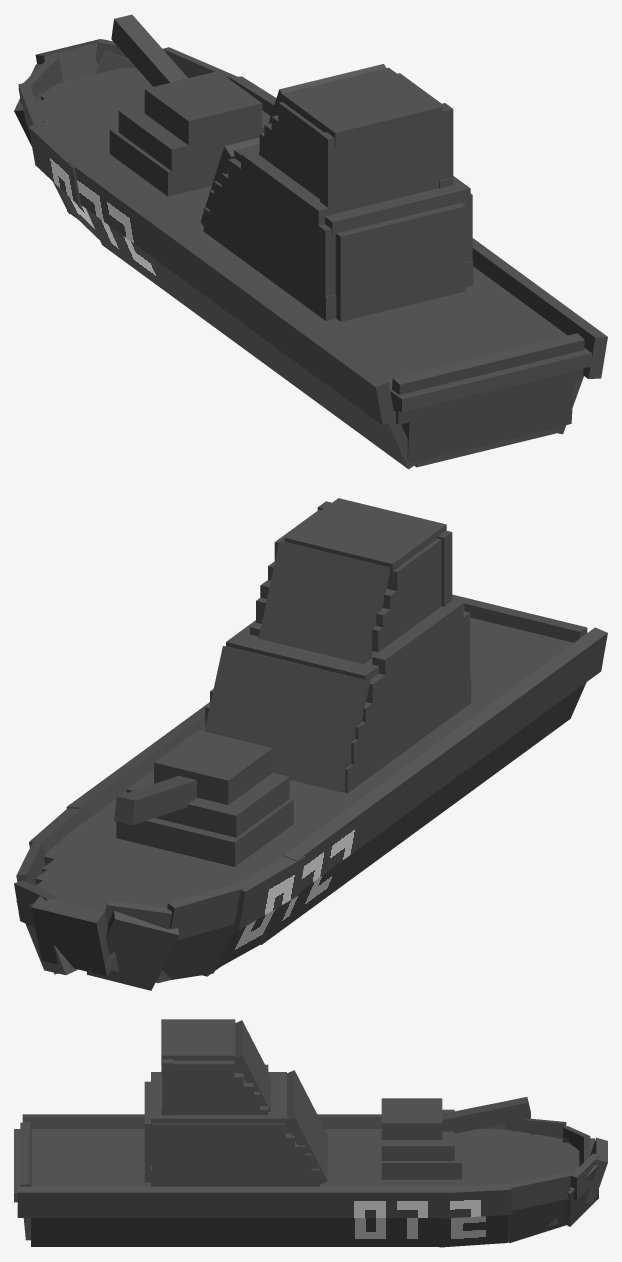
Rendered from battle_ship.gltf.
The picture shows the model from 3 angles, top to bottom: view 1: azimuth 30°, elevation 25°; view 2: azimuth 150°, elevation 25°; view 3: azimuth 270°, elevation 25°; orthographic projection. The views are drawn at different scales.
Visible parts, largest first — view 1: 574a7edc-acfb-e52b-d5ba-4c62aa0ed6e0, d747655d-21ff-97ad-ced1-867fbfcbcaac, d9909ba2-2220-5320-0587-8492221cc0b0, 764bfbb8-c7a1-44c2-808c-2f12d1057706, cd5e8470-a813-db98-c8eb-9bcdb8833844, a60889d1-ae71-2abe-be8e-14705f432808, 125cb045-9013-a886-90f1-e61241ccfe7a, 57532ed3-e67f-888f-b20d-7fd0287a990d, 3e800dbd-54c7-58d9-94f7-5210bf180558, 7b0f2438-c3d2-1eb7-5e60-a1bc8732a3ea, 02b7a2be-bfd1-5671-0eeb-4303a37a5ecd, 2942a726-c24d-d8c7-f381-debaa4e4d9b8 (+25 smaller); view 2: 574a7edc-acfb-e52b-d5ba-4c62aa0ed6e0, 77a540ac-184b-ad83-996b-59789e271a50, d747655d-21ff-97ad-ced1-867fbfcbcaac, fc0ec059-f388-7034-113f-d26500ad4ce9, cd5e8470-a813-db98-c8eb-9bcdb8833844, 125cb045-9013-a886-90f1-e61241ccfe7a, 57532ed3-e67f-888f-b20d-7fd0287a990d, 8905e3d0-7f4a-b9aa-f247-8a02727d9348, f6f09189-5b07-eb78-a67a-3fc8edfaabb6, 02b7a2be-bfd1-5671-0eeb-4303a37a5ecd, 8d9f268d-63dd-d09e-1849-835a69b38e6d, 54571c1e-b40f-808b-20aa-ccb1180dddf0 (+25 smaller); view 3: 7b0f2438-c3d2-1eb7-5e60-a1bc8732a3ea, 574a7edc-acfb-e52b-d5ba-4c62aa0ed6e0, bc360248-b9ef-b0c0-4257-d19f7198daa3, 125cb045-9013-a886-90f1-e61241ccfe7a, c19e883f-5d59-1123-f332-8dbebba9fa17, d747655d-21ff-97ad-ced1-867fbfcbcaac, 57532ed3-e67f-888f-b20d-7fd0287a990d, 6f654d17-7926-ae67-3081-45d37608c4da, 77a540ac-184b-ad83-996b-59789e271a50, b36ee417-e359-5583-4278-31b8f2a9d461, d1878211-4c6f-f7c3-8478-5f4488162acc, 11c33a91-05c5-4385-1ed4-3aebfd642e91 (+26 smaller).
Boxes of the visible parts, x1=… form: 574a7edc-acfb-e52b-d5ba-4c62aa0ed6e0: x1=53, y1=116, x2=591, y2=412; d747655d-21ff-97ad-ced1-867fbfcbcaac: x1=67, y1=156, x2=395, y2=425; d9909ba2-2220-5320-0587-8492221cc0b0: x1=335, y1=203, x2=465, y2=321; 764bfbb8-c7a1-44c2-808c-2f12d1057706: x1=320, y1=103, x2=453, y2=214; cd5e8470-a813-db98-c8eb-9bcdb8833844: x1=86, y1=209, x2=417, y2=469; a60889d1-ae71-2abe-be8e-14705f432808: x1=401, y1=377, x2=573, y2=463; 125cb045-9013-a886-90f1-e61241ccfe7a: x1=281, y1=67, x2=442, y2=146; 57532ed3-e67f-888f-b20d-7fd0287a990d: x1=144, y1=71, x2=262, y2=164; 3e800dbd-54c7-58d9-94f7-5210bf180558: x1=392, y1=333, x2=584, y2=424; 7b0f2438-c3d2-1eb7-5e60-a1bc8732a3ea: x1=472, y1=238, x2=607, y2=379; 02b7a2be-bfd1-5671-0eeb-4303a37a5ecd: x1=118, y1=104, x2=270, y2=181; 2942a726-c24d-d8c7-f381-debaa4e4d9b8: x1=203, y1=207, x2=336, y2=320; 574a7edc-acfb-e52b-d5ba-4c62aa0ed6e0: x1=44, y1=617, x2=573, y2=894; 77a540ac-184b-ad83-996b-59789e271a50: x1=204, y1=646, x2=370, y2=792; d747655d-21ff-97ad-ced1-867fbfcbcaac: x1=283, y1=627, x2=607, y2=891; fc0ec059-f388-7034-113f-d26500ad4ce9: x1=258, y1=541, x2=389, y2=664; cd5e8470-a813-db98-c8eb-9bcdb8833844: x1=259, y1=682, x2=586, y2=944; 125cb045-9013-a886-90f1-e61241ccfe7a: x1=284, y1=498, x2=446, y2=577; 57532ed3-e67f-888f-b20d-7fd0287a990d: x1=154, y1=730, x2=272, y2=804; 8905e3d0-7f4a-b9aa-f247-8a02727d9348: x1=116, y1=798, x2=293, y2=866; f6f09189-5b07-eb78-a67a-3fc8edfaabb6: x1=31, y1=896, x2=111, y2=976; 02b7a2be-bfd1-5671-0eeb-4303a37a5ecd: x1=126, y1=769, x2=289, y2=837; 8d9f268d-63dd-d09e-1849-835a69b38e6d: x1=87, y1=911, x2=178, y2=990; 54571c1e-b40f-808b-20aa-ccb1180dddf0: x1=372, y1=600, x2=463, y2=680; 7b0f2438-c3d2-1eb7-5e60-a1bc8732a3ea: x1=17, y1=1186, x2=448, y2=1217; 574a7edc-acfb-e52b-d5ba-4c62aa0ed6e0: x1=14, y1=1129, x2=512, y2=1202; bc360248-b9ef-b0c0-4257-d19f7198daa3: x1=31, y1=1218, x2=448, y2=1246; 125cb045-9013-a886-90f1-e61241ccfe7a: x1=161, y1=1019, x2=235, y2=1064; c19e883f-5d59-1123-f332-8dbebba9fa17: x1=151, y1=1166, x2=319, y2=1186; d747655d-21ff-97ad-ced1-867fbfcbcaac: x1=22, y1=1114, x2=381, y2=1128; 57532ed3-e67f-888f-b20d-7fd0287a990d: x1=381, y1=1098, x2=442, y2=1139; 6f654d17-7926-ae67-3081-45d37608c4da: x1=152, y1=1153, x2=311, y2=1170; 77a540ac-184b-ad83-996b-59789e271a50: x1=287, y1=1070, x2=327, y2=1184; b36ee417-e359-5583-4278-31b8f2a9d461: x1=151, y1=1072, x2=286, y2=1127; d1878211-4c6f-f7c3-8478-5f4488162acc: x1=152, y1=1123, x2=285, y2=1139; 11c33a91-05c5-4385-1ed4-3aebfd642e91: x1=152, y1=1142, x2=305, y2=1161.
Size of the model in its own units: 17.8 by 19.74 by 57.68.
1 material, 1 textured.
